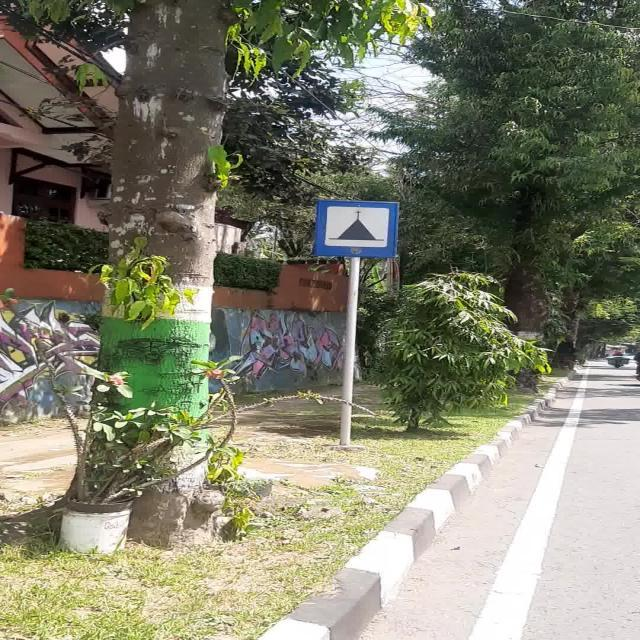Gereja: (314, 199, 400, 258)
